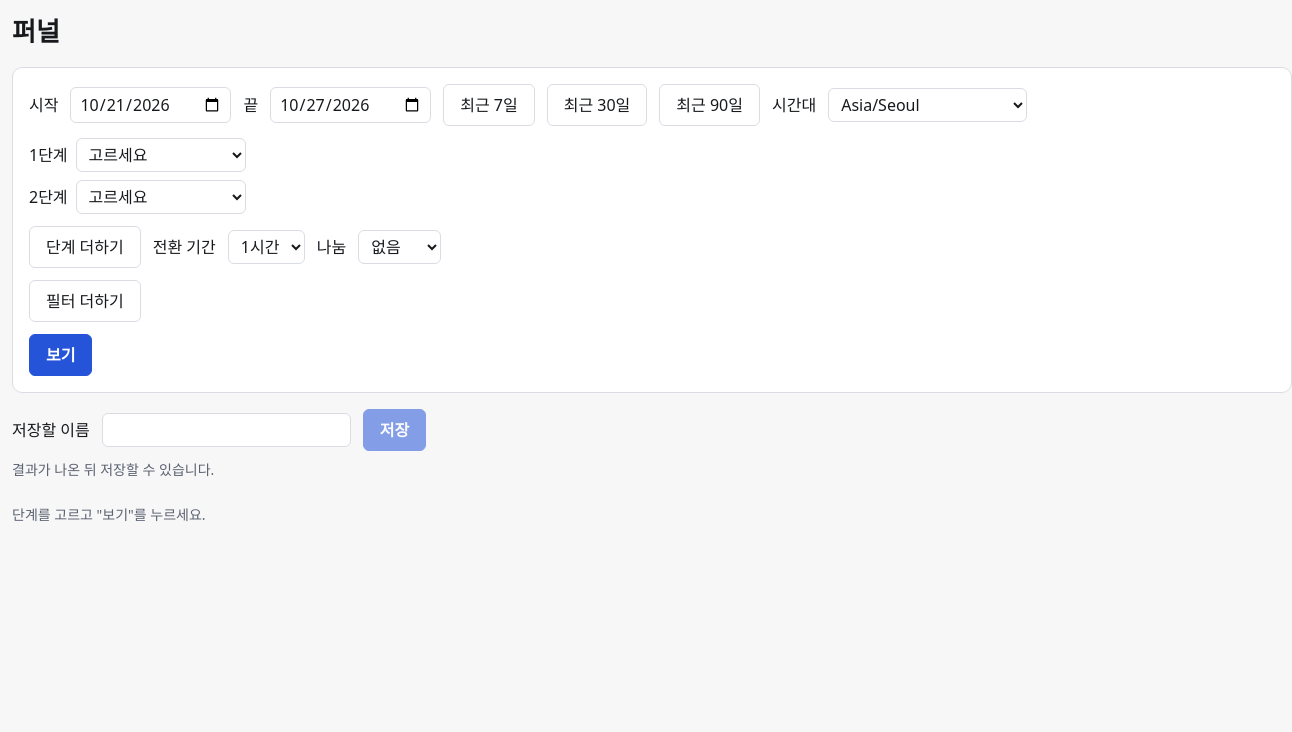
Test case: FunnelsPage › 단계를 고르지 않으면 보내지 않는다
Click the button "보기" at (61, 355), box [29, 334, 92, 376]
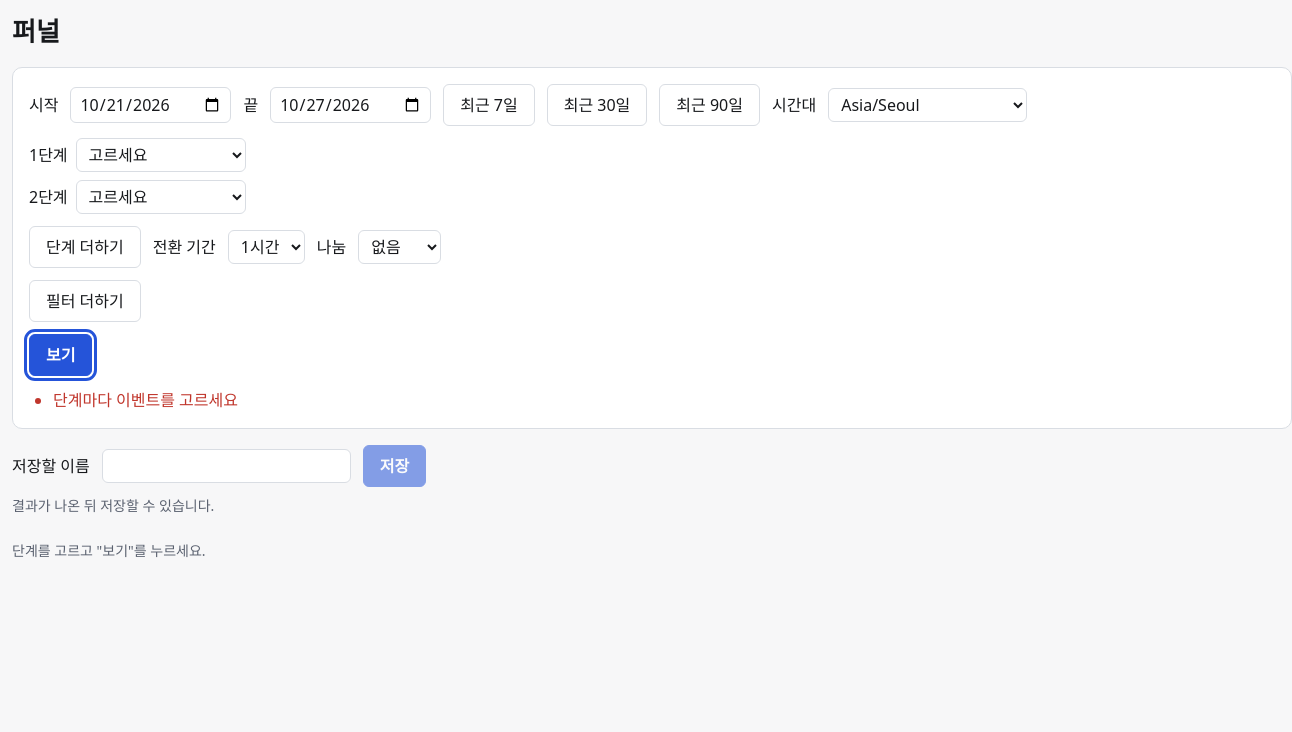
Result: the message reads "단계마다 이벤트를 고르세요" at [53, 389, 238, 411]
